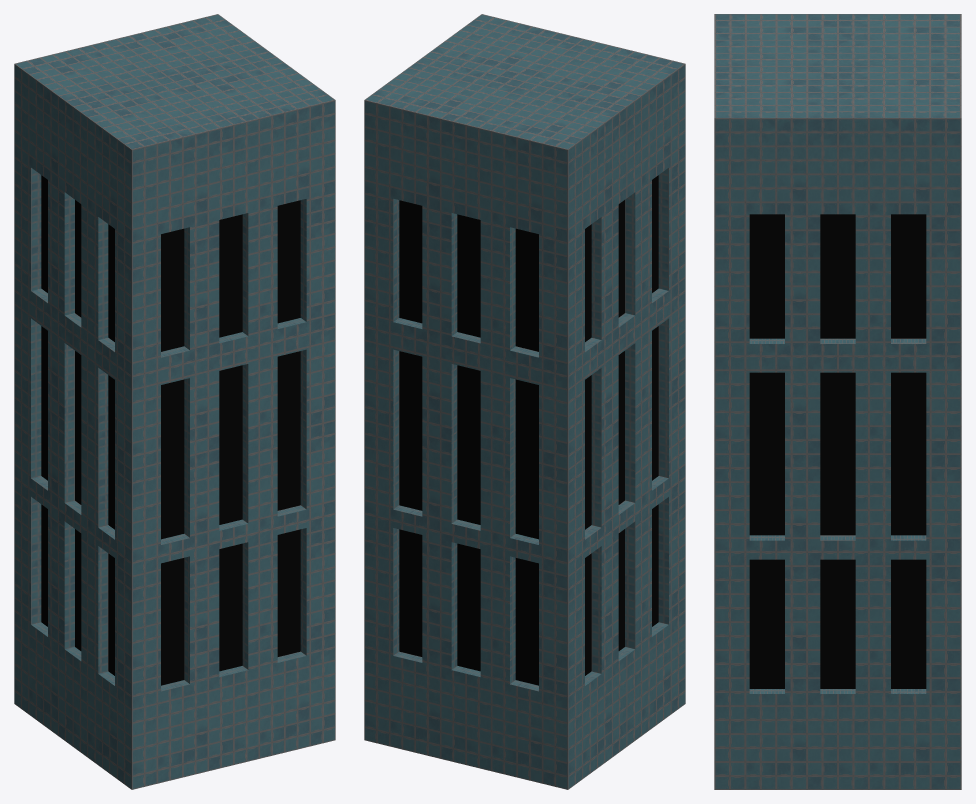
The model's file is Building1.fbx.
3 renders of one model, left to right at view 1: azimuth 30°, elevation 25°; view 2: azimuth 150°, elevation 25°; view 3: azimuth 270°, elevation 25°, orthographic. The views are drawn at different scales.
Parts seen in each view (by area): view 1: Skyscraper 1; view 2: Skyscraper 1; view 3: Skyscraper 1.
Boxes of the visible parts, x1,y1,x2,y2 form: Skyscraper 1: [14, 14, 335, 789]; Skyscraper 1: [364, 14, 685, 789]; Skyscraper 1: [714, 14, 961, 789].
Size of the model in its own units: 200 by 200 by 600.
